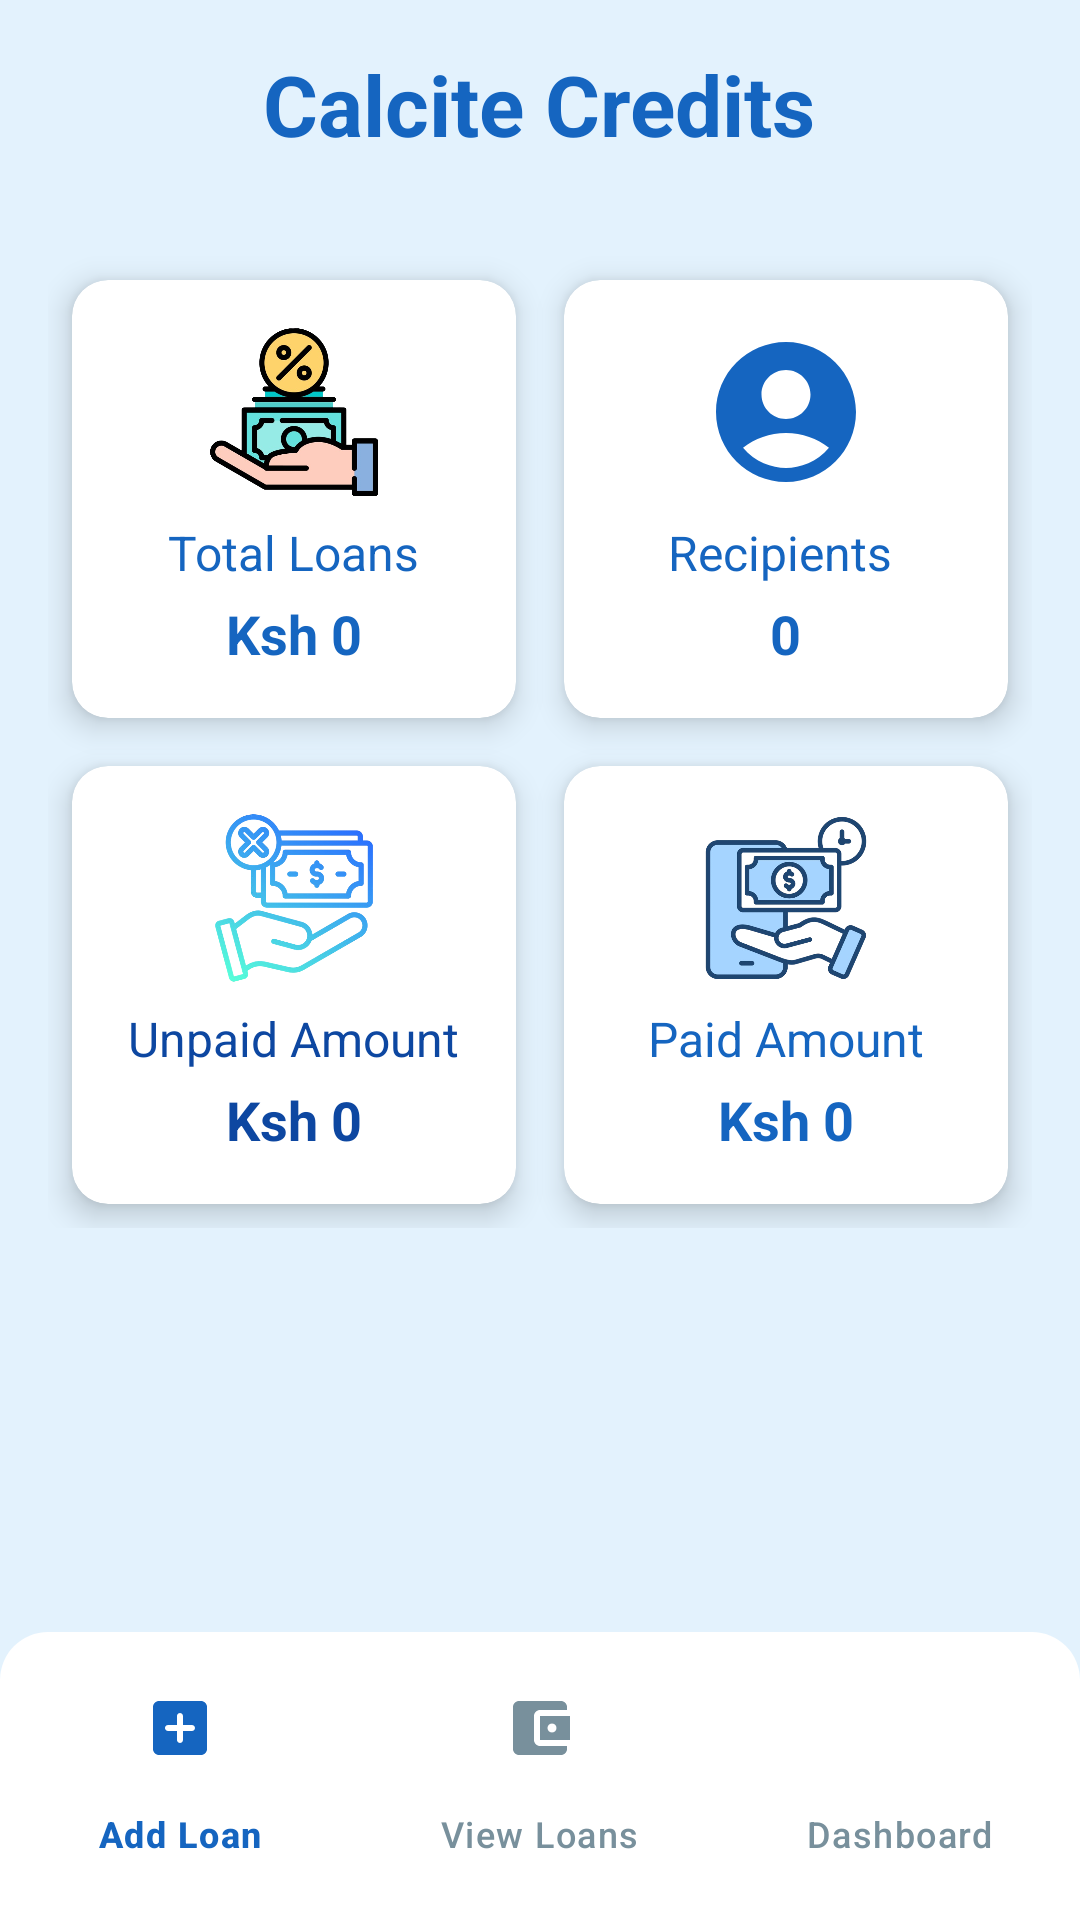

Icons on this 1080*1920 Android screen, each with its box as [x1,y1,x2,y2]:
total loanees: [716,342,856,482]
